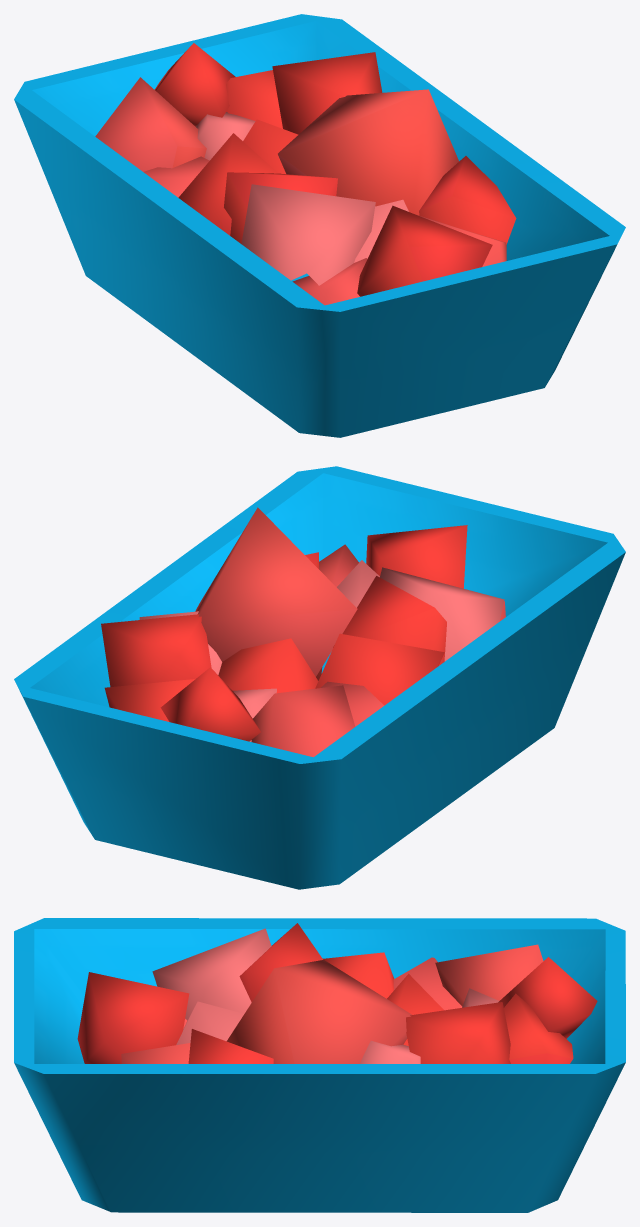
Rendered from shop_054.glb.
The picture shows the model from 3 angles, top to bottom: view 1: azimuth 30°, elevation 25°; view 2: azimuth 150°, elevation 25°; view 3: azimuth 270°, elevation 25°; orthographic projection. The views are drawn at different scales.
Visible parts, largest first — view 1: shop_054; view 2: shop_054; view 3: shop_054.
Boxes of the visible parts, box(x1,y1,x2,y2) form: shop_054: box(14, 14, 625, 437); shop_054: box(14, 466, 625, 889); shop_054: box(14, 918, 625, 1212).
Size of the model in its own units: 0.1031 by 0.069 by 0.1709.
1 material, 1 textured.
